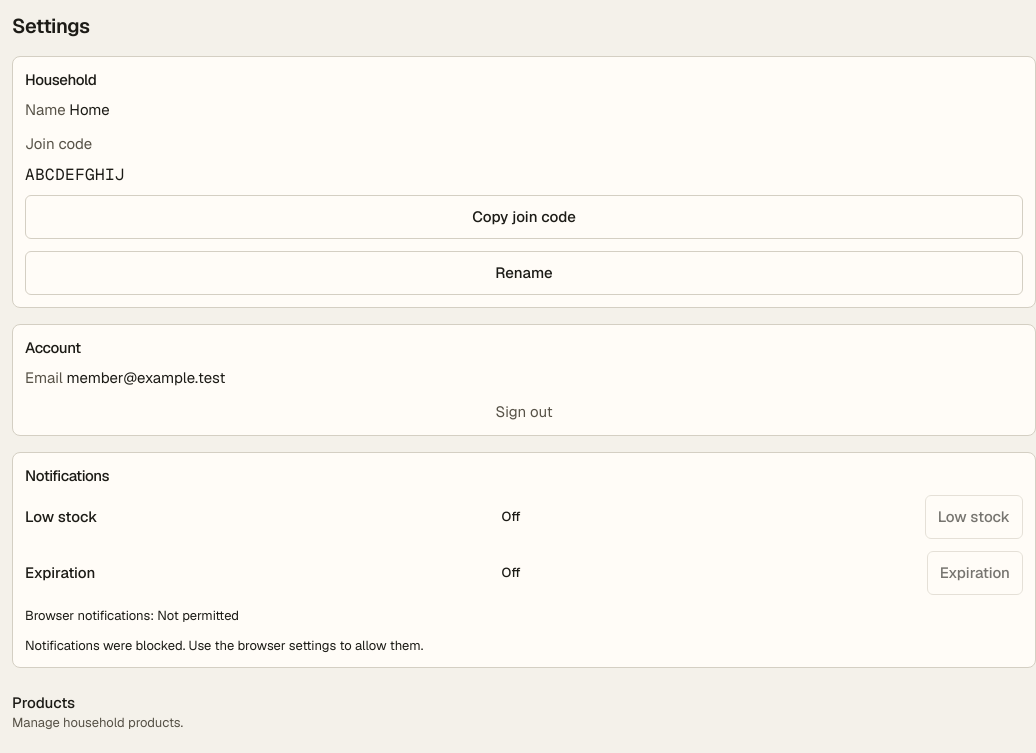
Test: HouseholdSettingsScreen › shows copy failure when the clipboard rejects
Expected: the text "ABCDEFGHIJ" is shown, [25,164,125,185]
Click the button "Copy join code": [524, 217] box [25,195,1023,239]
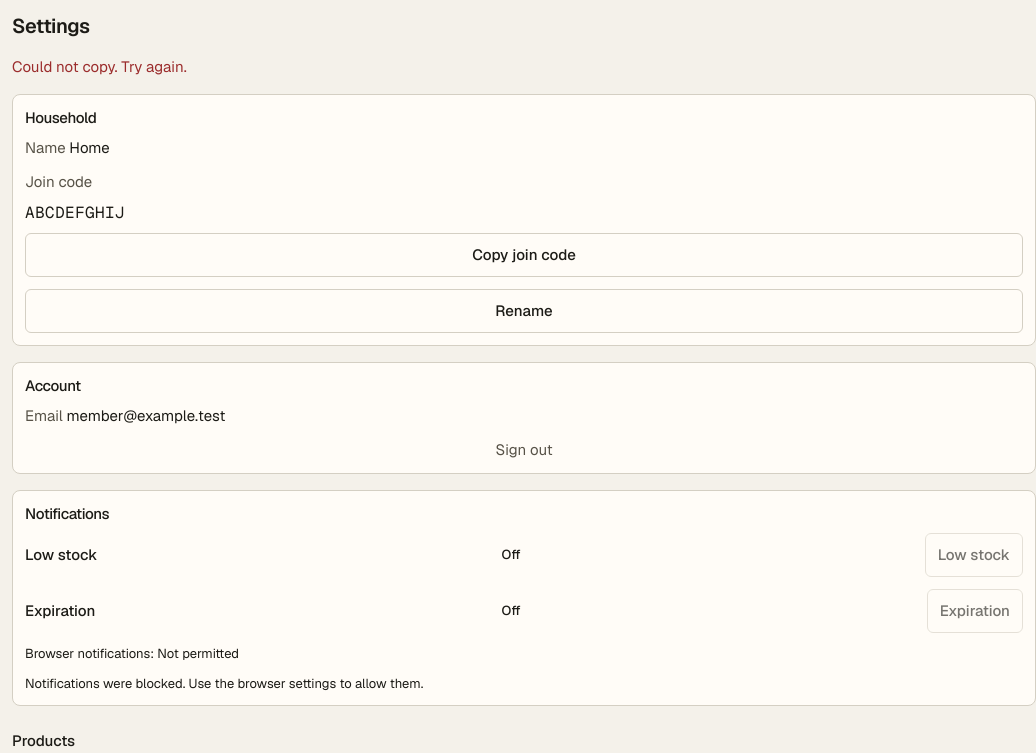
Now the message reads "Could not copy. Try again.", box [12,57,187,76]
